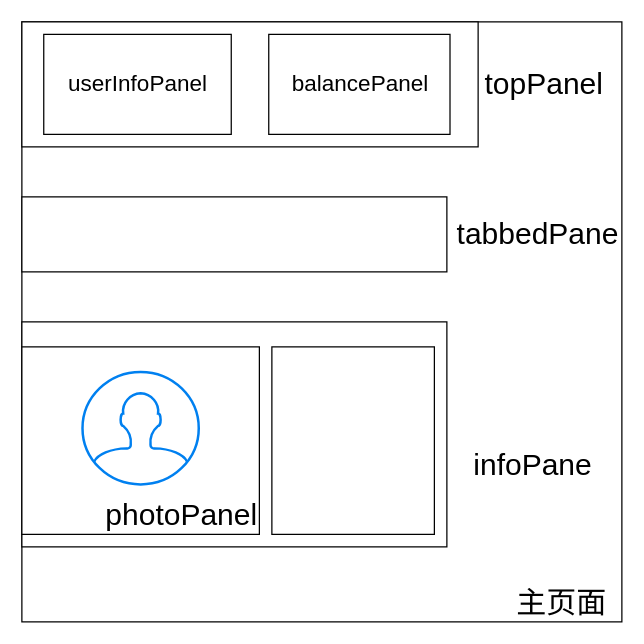
This 644x644 diagram has some shape labels left out. Each missing label, with the box of its shape:
detailsPane: (271, 346, 434, 534)
选项卡: (21, 196, 447, 272)
